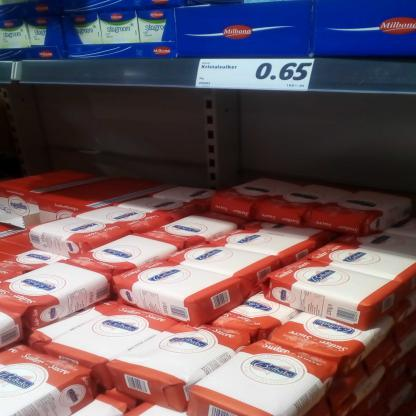prtg: (196, 60, 315, 92)
